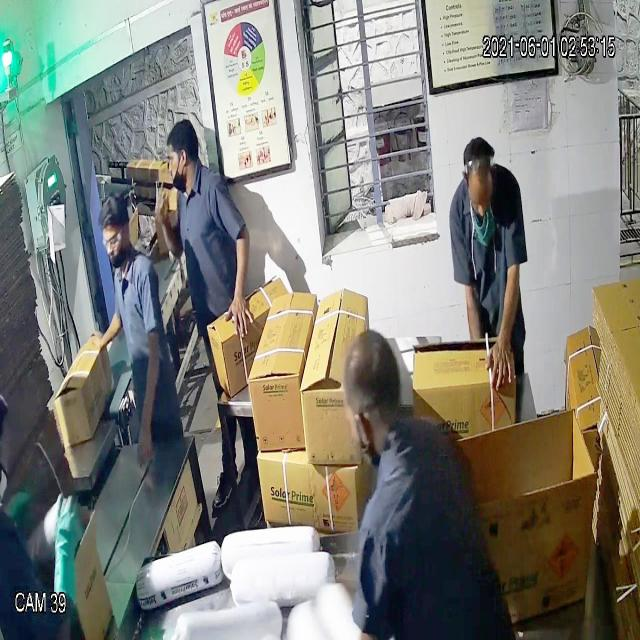glasses: (98, 220, 136, 258)
